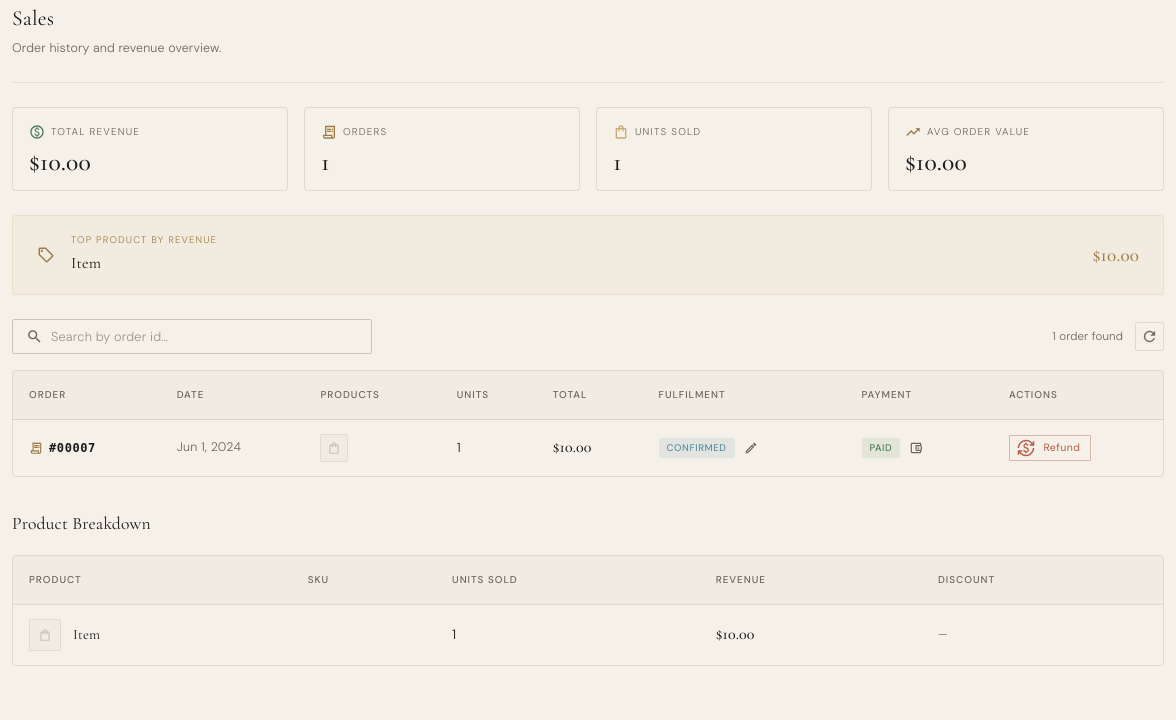
Test: AdminSells — refunds › starts a refund via an authenticated POST and reports the pending status
Click the button "Refund" at (1050, 448), box [1009, 435, 1091, 462]
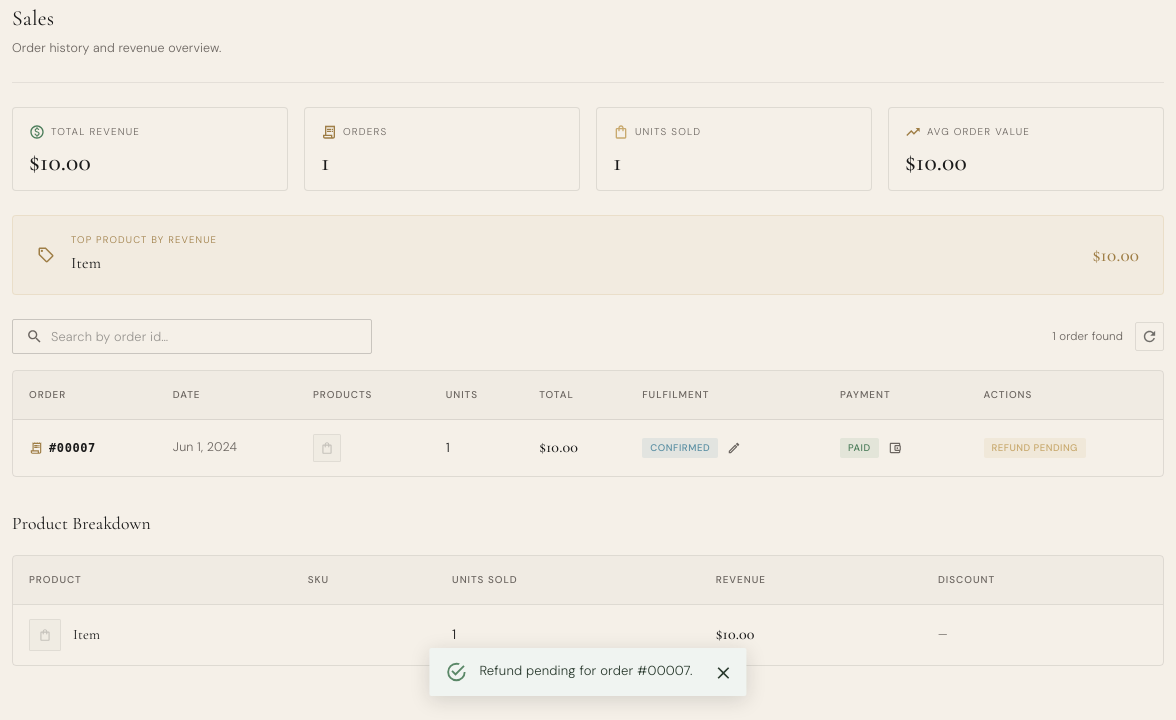
Now the text "Refund pending for order #00007." is shown, box [479, 662, 693, 679]
Now the text "Refund pending" is shown, box [992, 441, 1078, 454]
